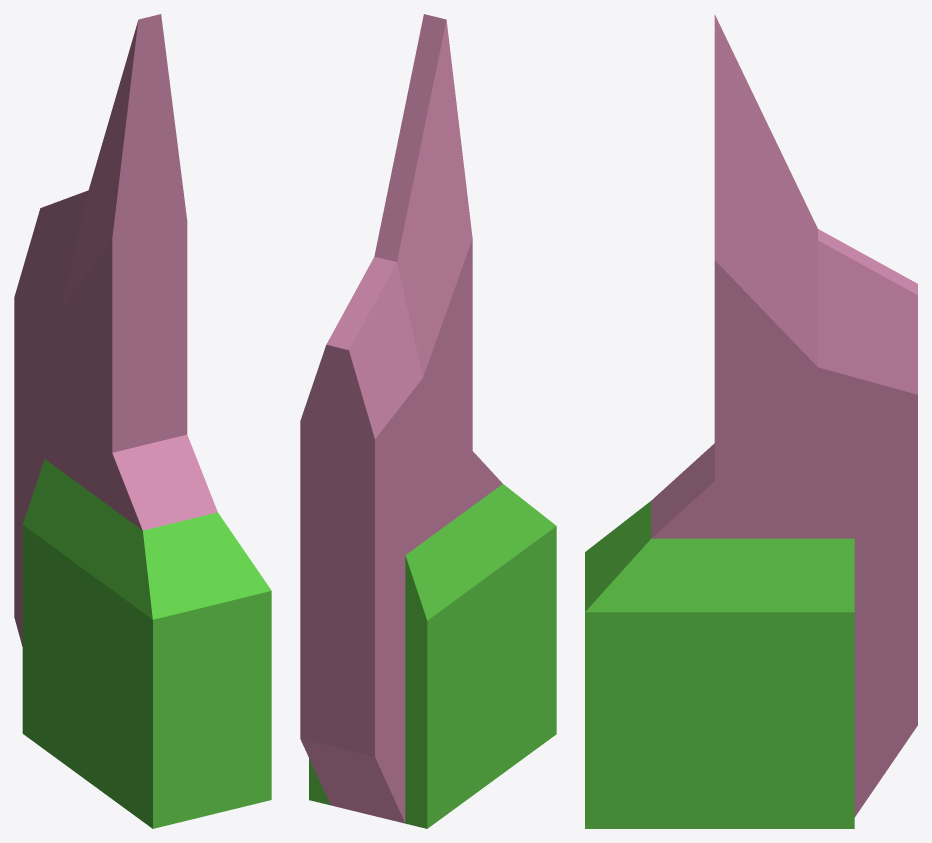
File: SciPillar.fbx
3 renders of one model, left to right at view 1: azimuth 30°, elevation 25°; view 2: azimuth 150°, elevation 25°; view 3: azimuth 270°, elevation 25°, orthographic. The views are drawn at different scales.
Parts seen in each view (by area): view 1: Cube; view 2: Cube; view 3: Cube.
Boxes of the visible parts, x1,y1,x2,y2 form: Cube: [14, 14, 271, 828]; Cube: [300, 14, 556, 828]; Cube: [585, 14, 917, 828].
Bounding box in the file's own units: 106 × 638 × 247.
